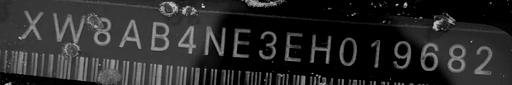letter: (48, 11, 88, 44), (200, 23, 226, 60), (306, 32, 332, 69), (280, 29, 306, 64), (470, 41, 496, 76), (120, 17, 144, 54), (148, 21, 174, 54), (18, 8, 42, 43), (390, 37, 414, 72), (229, 26, 253, 59), (442, 41, 466, 74), (92, 12, 112, 47), (336, 34, 356, 69), (176, 23, 196, 56), (363, 37, 383, 70), (259, 27, 277, 62), (421, 40, 439, 71)
